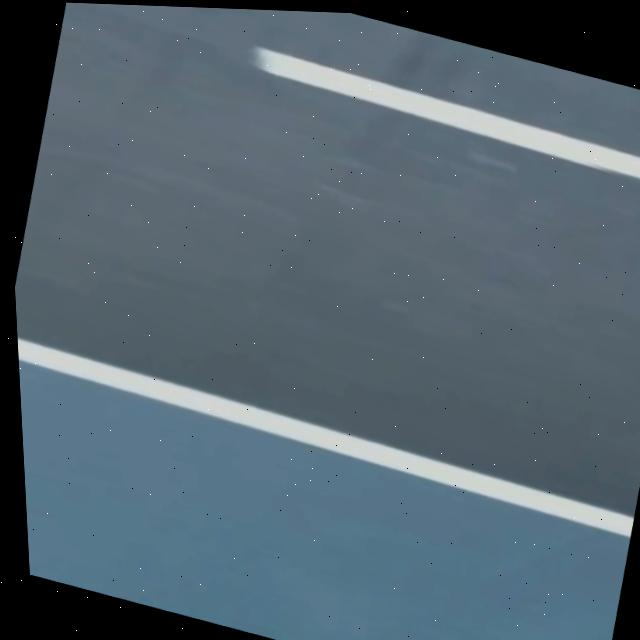center: (254, 47, 640, 180)
left: (17, 337, 634, 536)
